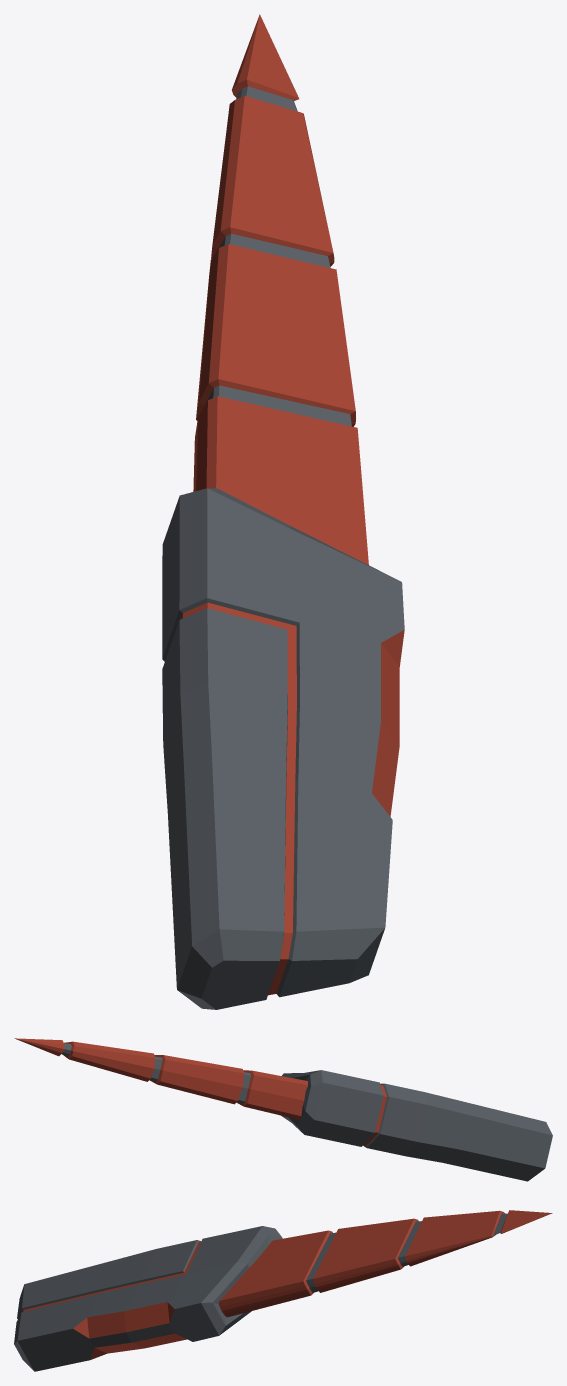
The model's file is Fighter_03_Left_Wing_Red.fbx.
The picture shows the model from 3 angles, top to bottom: view 1: azimuth 30°, elevation 25°; view 2: azimuth 150°, elevation 25°; view 3: azimuth 270°, elevation 25°; orthographic projection. The views are drawn at different scales.
Parts seen in each view (by area): view 1: Fighter_03_Left_Wing_Red; view 2: Fighter_03_Left_Wing_Red; view 3: Fighter_03_Left_Wing_Red.
Part boxes in pixels (x1,y1,x2,y2): Fighter_03_Left_Wing_Red: (162,14,404,1009); Fighter_03_Left_Wing_Red: (14,1038,552,1181); Fighter_03_Left_Wing_Red: (14,1210,552,1371).
Bounding box in the file's own units: 590 × 501 × 932.
1 material, 1 textured.
